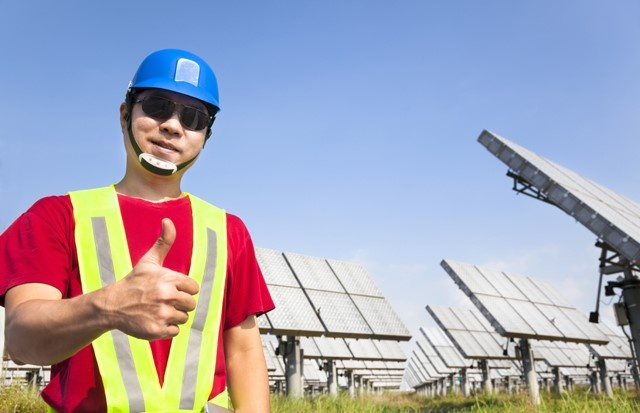blue: (118, 48, 222, 173)
